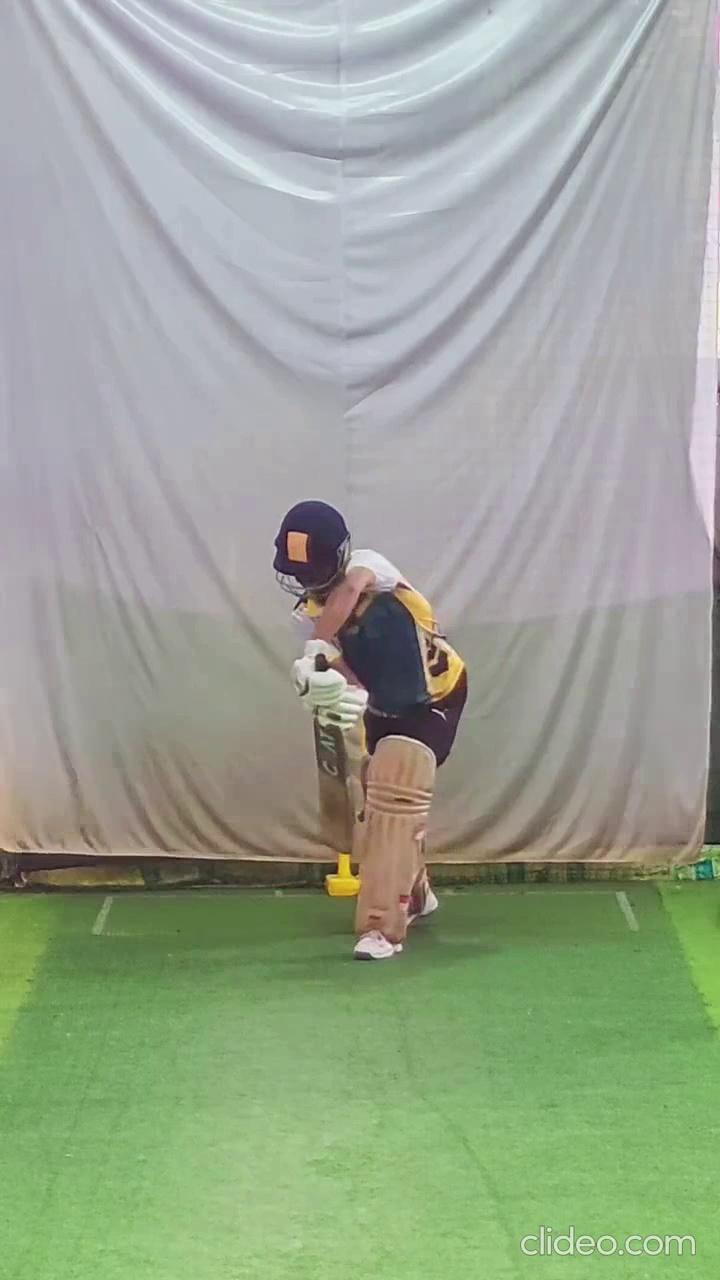bat: (308, 714, 357, 859)
